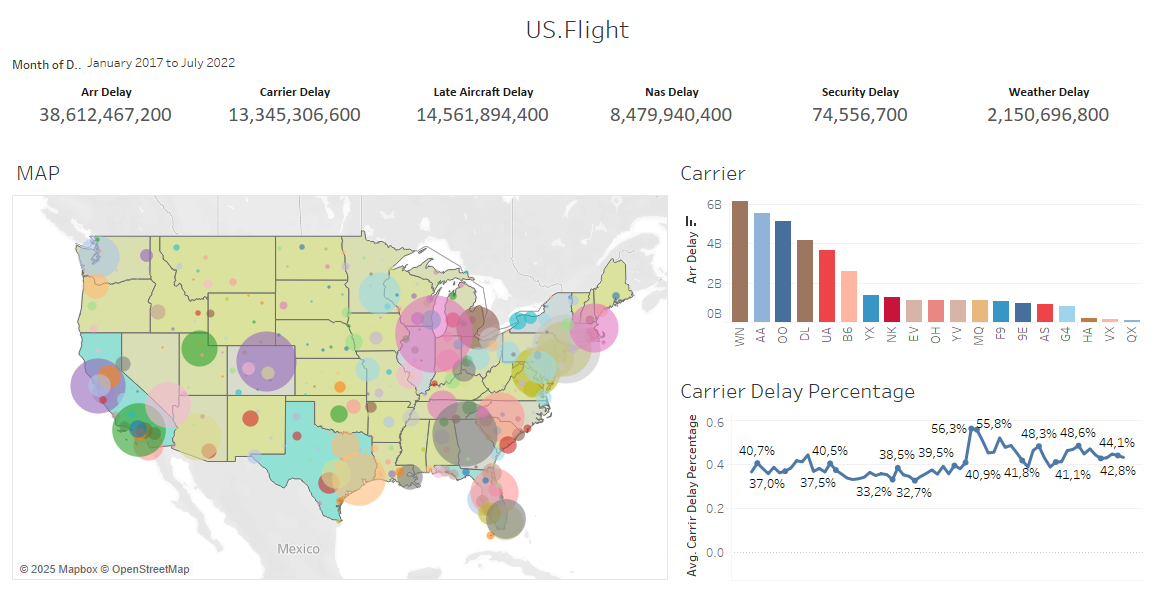

The page's visual inventory and layout, read from the dashboard file:
{"tool":"tableau","page":{"name":"US_Flight","canvas":[1000,1000],"units":"permille","ordinal":0},"visuals":[{"type":"title","box":[6.9,13.5,986.1,70.9]},{"type":"filter","title":"Carrier Delay Percentage","param":"[federated.1jvgh251ob45dj14brow8143e1x2].[tmn:Date:qk]","box":[6.9,84.5,986.1,47.8]},{"type":"worksheet","title":"Total Delay","mark":"Automatic","box":[6.9,132.2,986.1,117.8]},{"type":"worksheet","title":"MAP","mark":"Multipolygon","box":[6.9,250,574.9,736.5]},{"type":"worksheet","title":"Carrier","mark":"Automatic","rows":["arr_delay"],"cols":["carrier"],"box":[581.8,250,411.2,368.2]},{"type":"worksheet","title":"Carrier Delay Percentage","mark":"Automatic","rows":["Calculation_593067781507629056"],"cols":["Date"],"box":[581.8,618.2,411.2,368.2]}]}

Visuals, with their boxes on the dashboard's canvas, which has no fixed pixel size, in thousandths of its width and height (x1, y1, x2, y2). These are canvas units, not pixel positions in the 1155x592 screenshot, which may show the page scaled, cropped or inside an application window:
title: 7/14/993/84
"Carrier Delay Percentage" filter: 7/84/993/132
"Total Delay" worksheet: 7/132/993/250
"MAP" worksheet (Multipolygon marks): 7/250/582/986
"Carrier" worksheet: 582/250/993/618
"Carrier Delay Percentage" worksheet: 582/618/993/986
